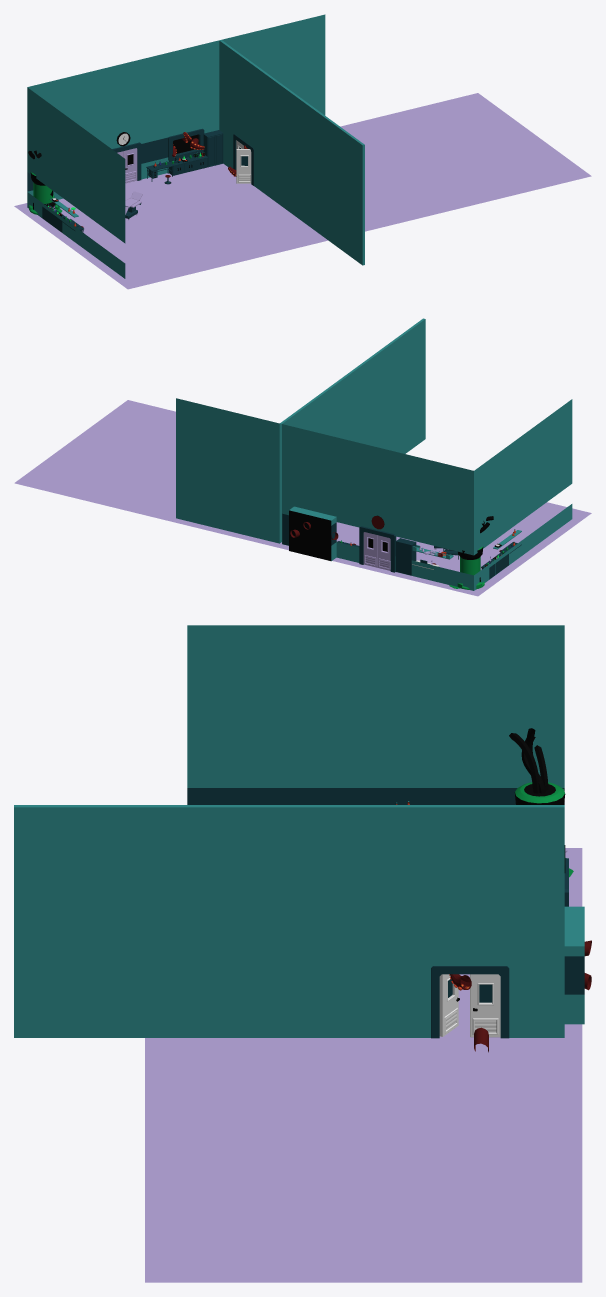
File: OverWorldTestTony4.fbx
3 views of the same model, one above another, from view 1: azimuth 30°, elevation 25°; view 2: azimuth 150°, elevation 25°; view 3: azimuth 270°, elevation 25° (orthographic). The views are drawn at different scales.
Visible parts, largest first — view 1: Microscoop.001; view 2: Microscoop.001; view 3: Microscoop.001.
Boxes of the visible parts, x1,y1,x2,y2 form: Microscoop.001: (14,14,591,289); Microscoop.001: (14,318,591,596); Microscoop.001: (14,625,591,1282).
Size of the model in its own units: 2185 by 549 by 1228.
